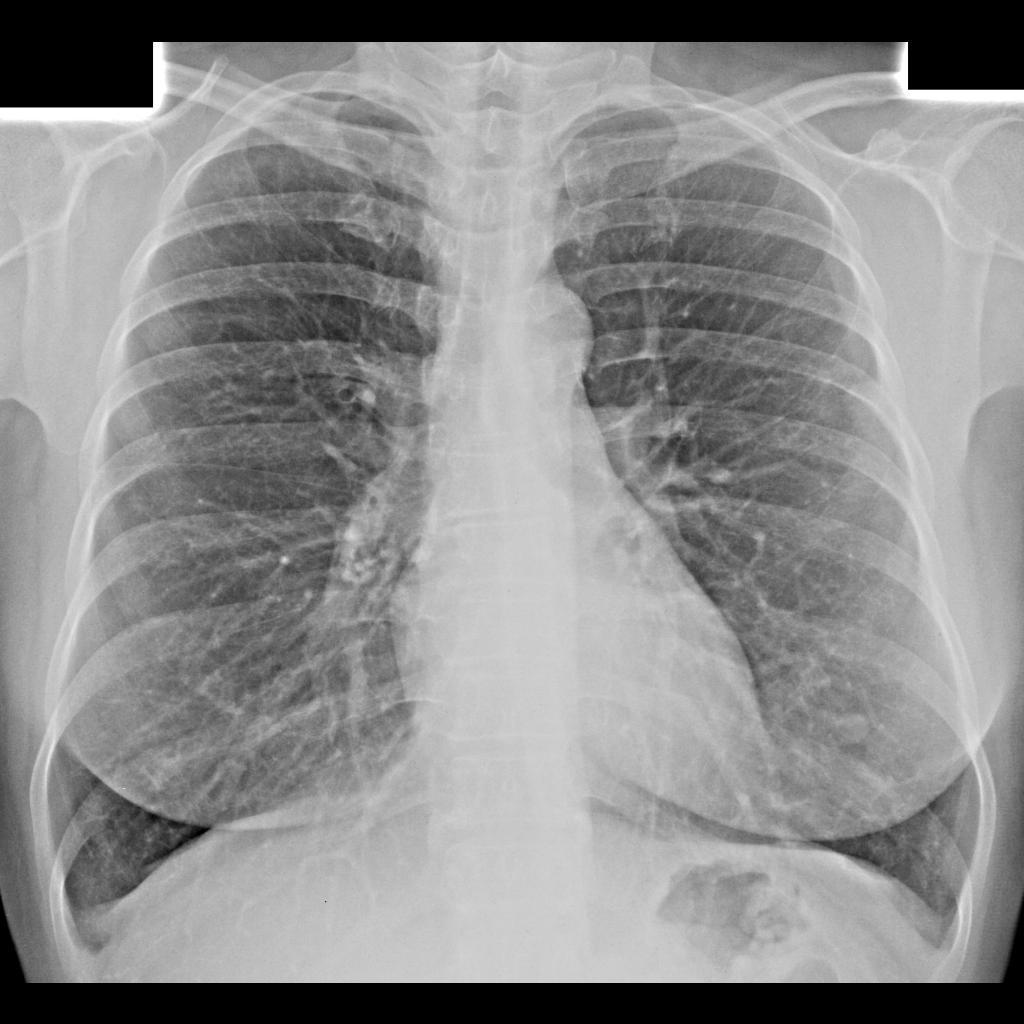Nodule: (850, 380, 890, 420)
